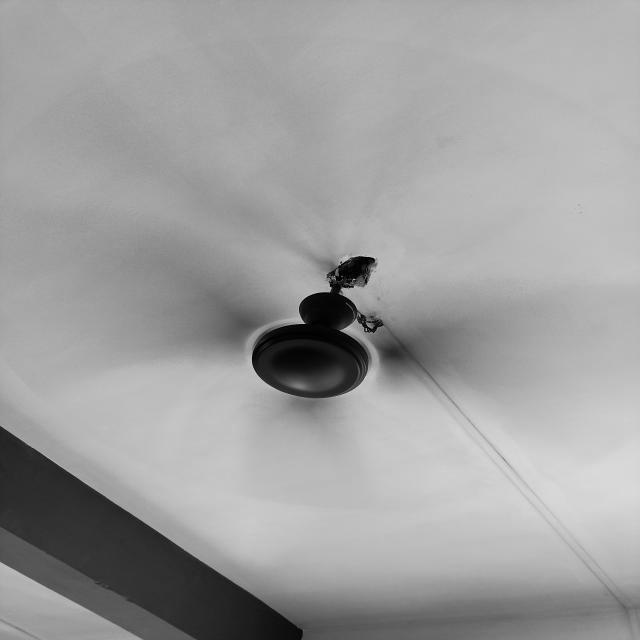fan: (6, 38, 639, 506)
